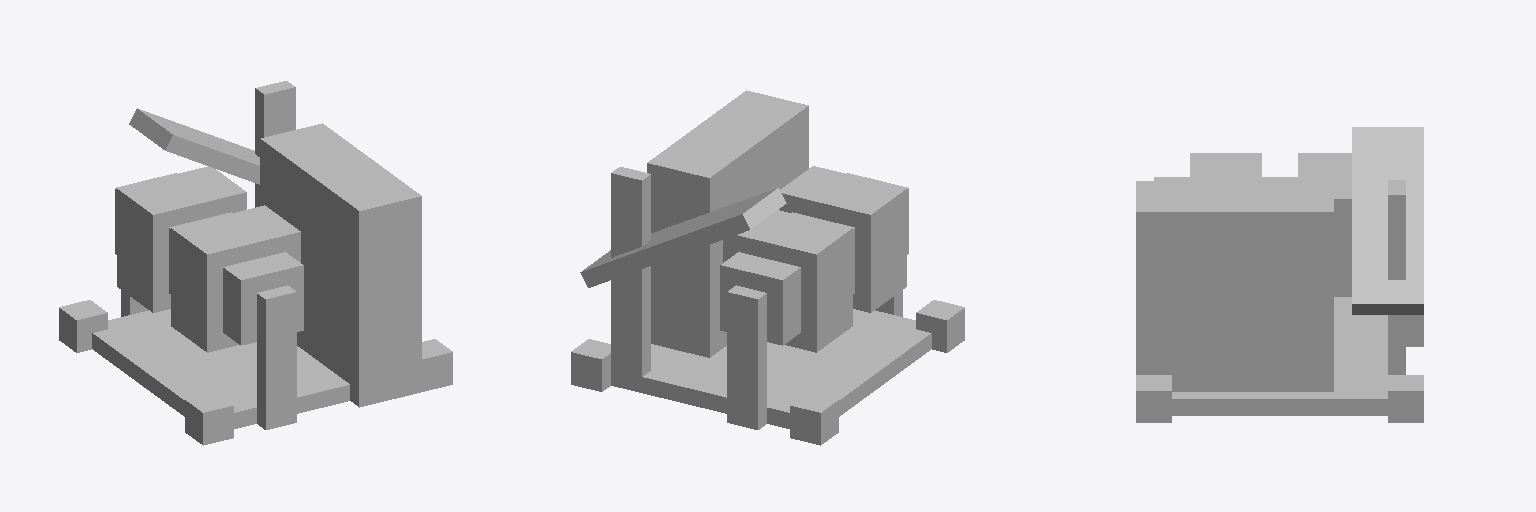
Rendered from chem.extractor.obj.
3 views of the same model, side by side, from view 1: azimuth 30°, elevation 25°; view 2: azimuth 150°, elevation 25°; view 3: azimuth 270°, elevation 25° (orthographic).
Parts seen in each view (by area): view 1: ENERGY_PLUG, MAIN_BASE, MAGNET1, MAGNET2, SUPPORT_BEAM_2, MAIN_CHAMBER, KEYBOARD, KEYBOARD_SUPPORT, CORNER_SUPPORT_4, CORNER_SUPPORT_1, CORNER_SUPPORT_2; view 2: ENERGY_PLUG, MAIN_BASE, MAGNET1, MAGNET2, KEYBOARD_SUPPORT, KEYBOARD, SUPPORT_BEAM_1, MAIN_CHAMBER, CORNER_SUPPORT_1, CORNER_SUPPORT_4, CORNER_SUPPORT_3; view 3: ENERGY_PLUG, KEYBOARD, MAIN_BASE, MAGNET2, KEYBOARD_SUPPORT, MAGNET1, CORNER_SUPPORT_3, CORNER_SUPPORT_2, SUPPORT_BEAM_1.
Boxes of the visible parts, x1,y1,x2,y2 form: ENERGY_PLUG: [260, 123, 421, 407]; MAIN_BASE: [92, 309, 349, 428]; MAGNET1: [171, 205, 300, 352]; MAGNET2: [117, 166, 246, 312]; SUPPORT_BEAM_2: [257, 285, 296, 429]; MAIN_CHAMBER: [115, 173, 303, 345]; KEYBOARD: [129, 108, 259, 184]; KEYBOARD_SUPPORT: [255, 81, 295, 207]; CORNER_SUPPORT_4: [185, 392, 233, 445]; CORNER_SUPPORT_1: [59, 300, 107, 352]; CORNER_SUPPORT_2: [422, 339, 452, 391]; ENERGY_PLUG: [647, 90, 808, 357]; MAIN_BASE: [611, 309, 931, 428]; MAGNET1: [779, 166, 906, 312]; MAGNET2: [723, 210, 852, 352]; KEYBOARD_SUPPORT: [611, 167, 650, 376]; KEYBOARD: [580, 188, 786, 287]; SUPPORT_BEAM_1: [727, 285, 766, 429]; MAIN_CHAMBER: [720, 173, 908, 345]; CORNER_SUPPORT_1: [790, 392, 838, 445]; CORNER_SUPPORT_4: [916, 300, 964, 352]; CORNER_SUPPORT_3: [571, 339, 610, 391]; ENERGY_PLUG: [1136, 181, 1333, 391]; KEYBOARD: [1352, 127, 1423, 314]; MAIN_BASE: [1172, 297, 1387, 415]; MAGNET2: [1298, 153, 1351, 296]; KEYBOARD_SUPPORT: [1388, 180, 1405, 374]; MAGNET1: [1190, 153, 1261, 180]; CORNER_SUPPORT_3: [1388, 375, 1423, 422]; CORNER_SUPPORT_2: [1136, 375, 1171, 422]; SUPPORT_BEAM_1: [1406, 315, 1423, 346].
Bounding box in the file's own units: 1 × 0.8125 × 1.